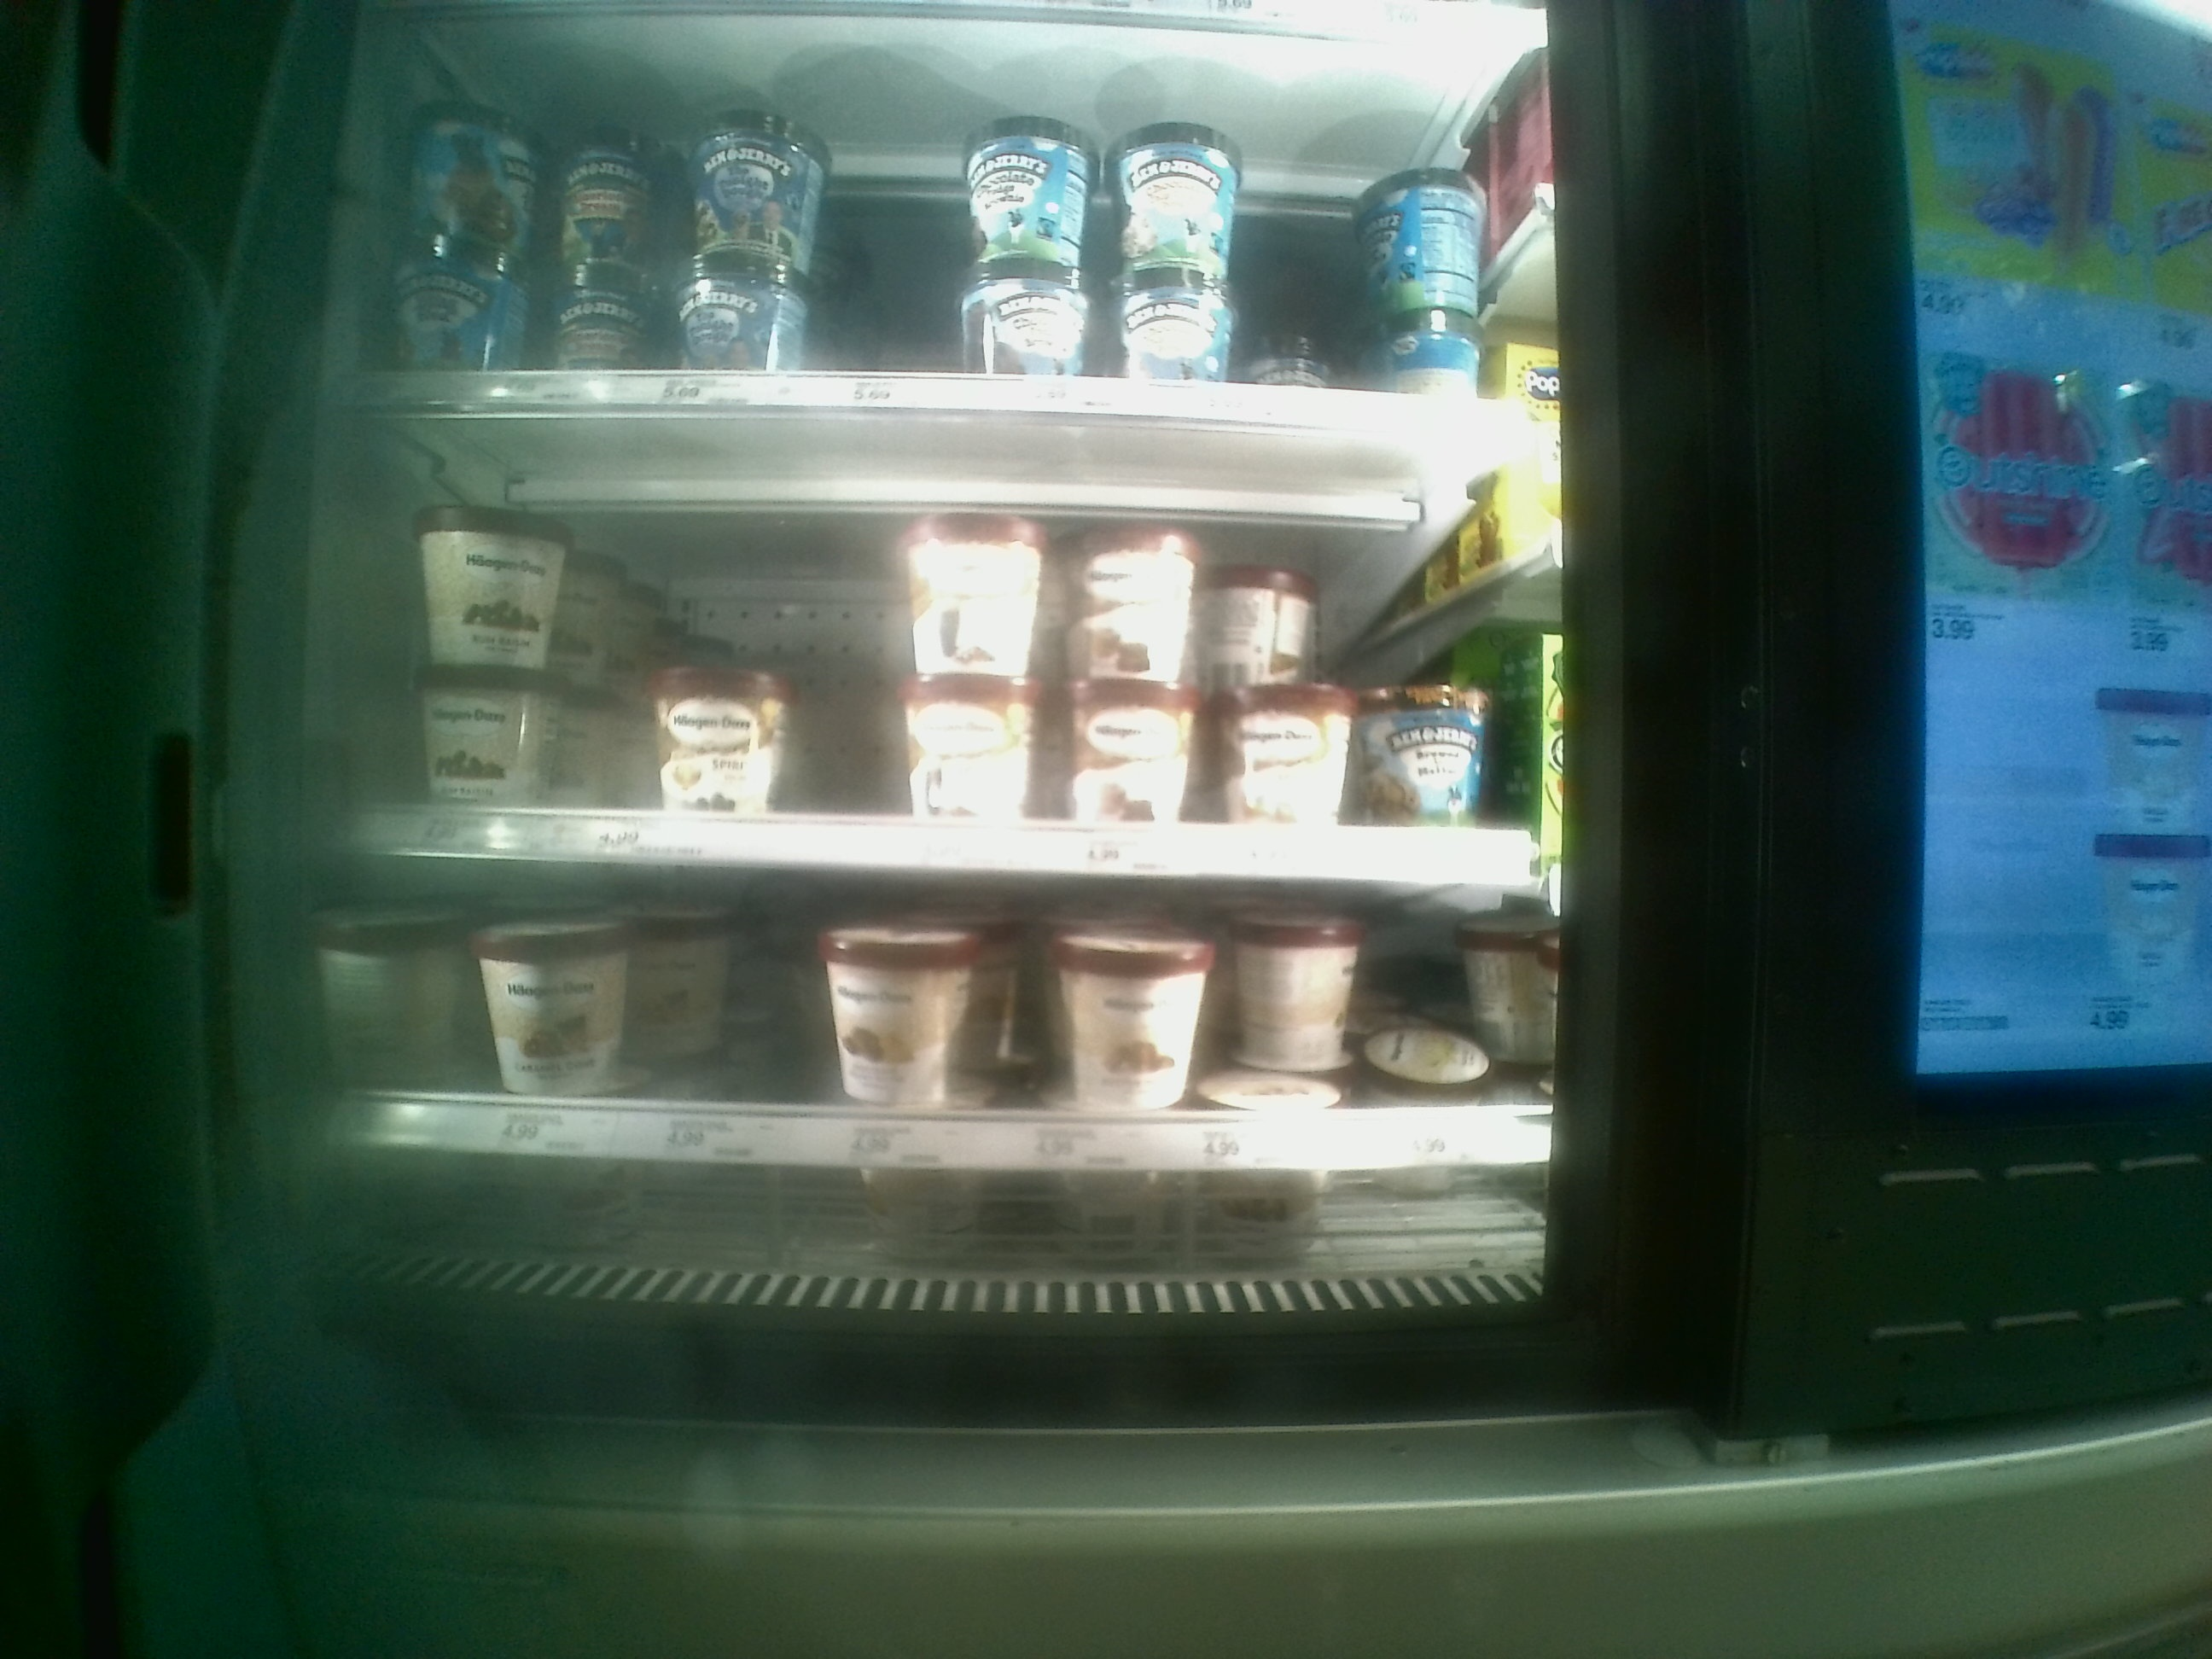ice-cream-shelf: (340, 415, 1550, 873), (340, 852, 1550, 1223)
